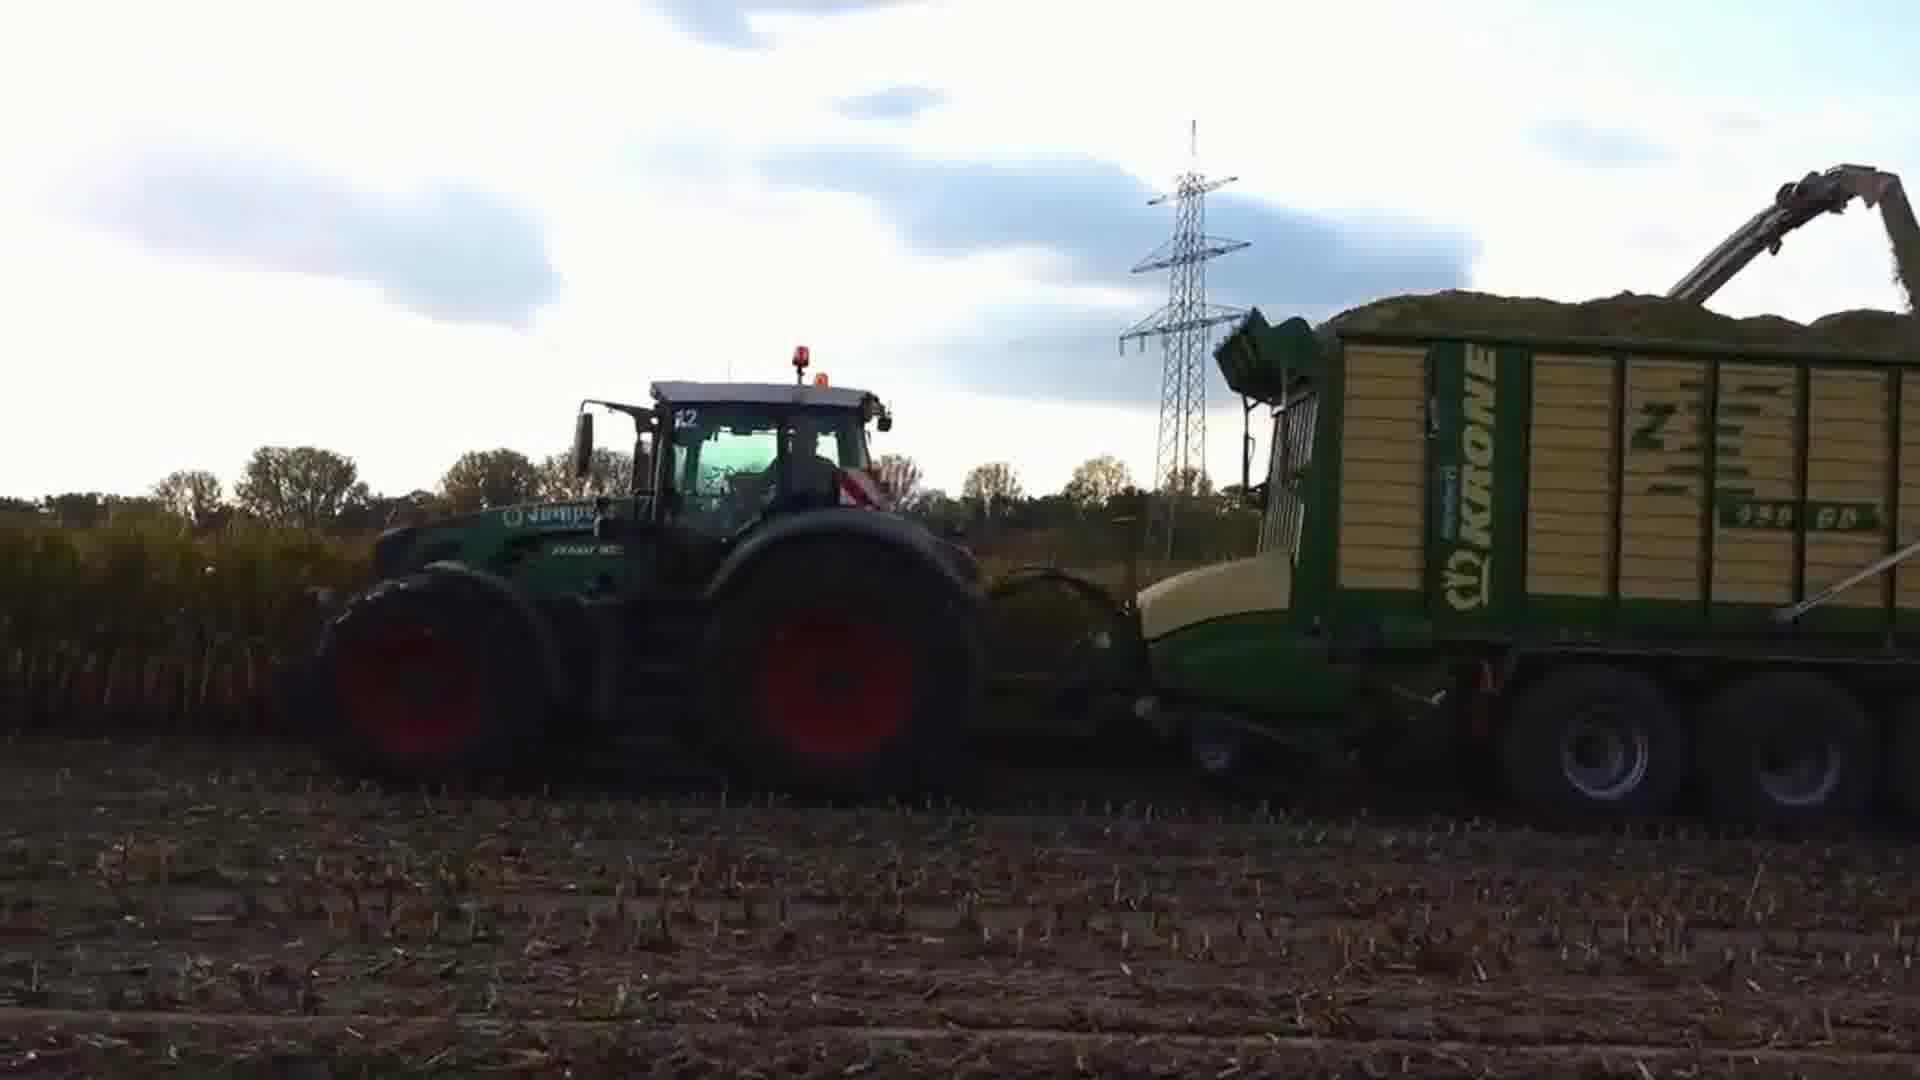tractor: (257, 338, 1005, 806)
trailer: (1052, 244, 1920, 855)
